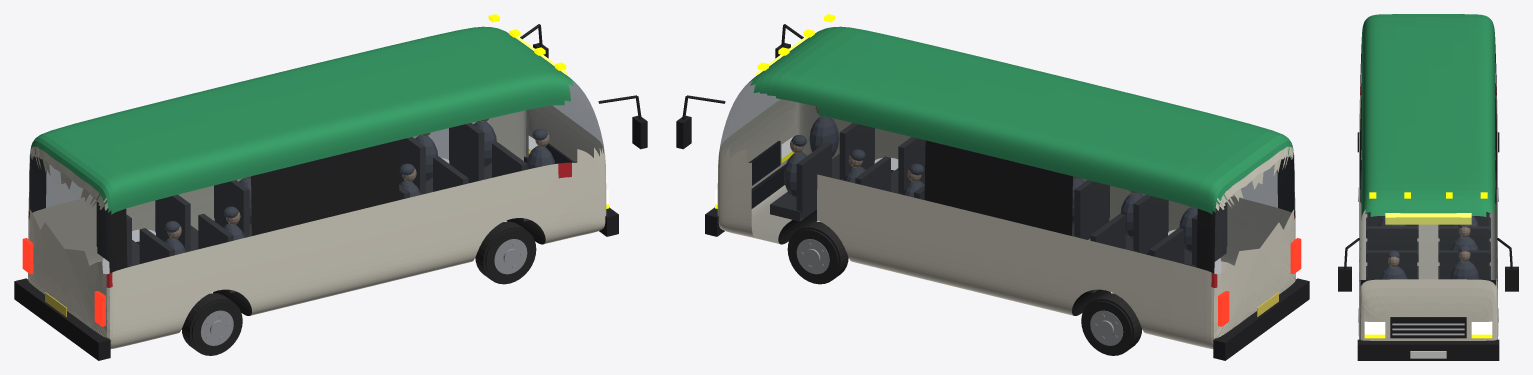
Rendered from minibus.glb.
The picture shows the model from 3 angles, left to right: view 1: azimuth 30°, elevation 25°; view 2: azimuth 150°, elevation 25°; view 3: azimuth 270°, elevation 25°; orthographic projection. The views are drawn at different scales.
Parts seen in each view (by area): view 1: minibus__body, minibus__seat, minibus__trim, minibus__tyre, minibus__cloth, minibus__steel, minibus__tail; view 2: minibus__body, minibus__seat, minibus__trim, minibus__tyre, minibus__cloth, minibus__steel, minibus__tail; view 3: minibus__body, minibus__trim, minibus__seat, minibus__cloth, minibus__led, minibus__chrome, minibus__head, minibus__amber, minibus__skin, minibus__plate_f.
Boxes of the visible parts, x1,y1,x2,y2 form: minibus__body: [28, 26, 606, 348]; minibus__seat: [96, 123, 529, 300]; minibus__trim: [14, 24, 647, 360]; minibus__tyre: [136, 221, 536, 355]; minibus__cloth: [164, 121, 554, 254]; minibus__steel: [200, 239, 527, 345]; minibus__tail: [22, 238, 105, 326]; minibus__body: [717, 26, 1295, 348]; minibus__seat: [770, 123, 1227, 300]; minibus__trim: [676, 24, 1309, 360]; minibus__tyre: [787, 170, 1142, 355]; minibus__cloth: [784, 116, 1197, 252]; minibus__steel: [796, 239, 1123, 345]; minibus__tail: [1218, 238, 1301, 326]; minibus__body: [1358, 14, 1498, 340]; minibus__trim: [1338, 132, 1518, 360]; minibus__seat: [1366, 212, 1490, 281]; minibus__cloth: [1378, 216, 1478, 279]; minibus__led: [1385, 213, 1471, 224]; minibus__chrome: [1392, 323, 1464, 335]; minibus__head: [1364, 321, 1492, 334]; minibus__amber: [1364, 192, 1492, 338]; minibus__skin: [1388, 227, 1470, 267]; minibus__plate_f: [1410, 351, 1446, 358].
Bounding box in the file's own units: 7.52 × 2.67 × 2.6.
